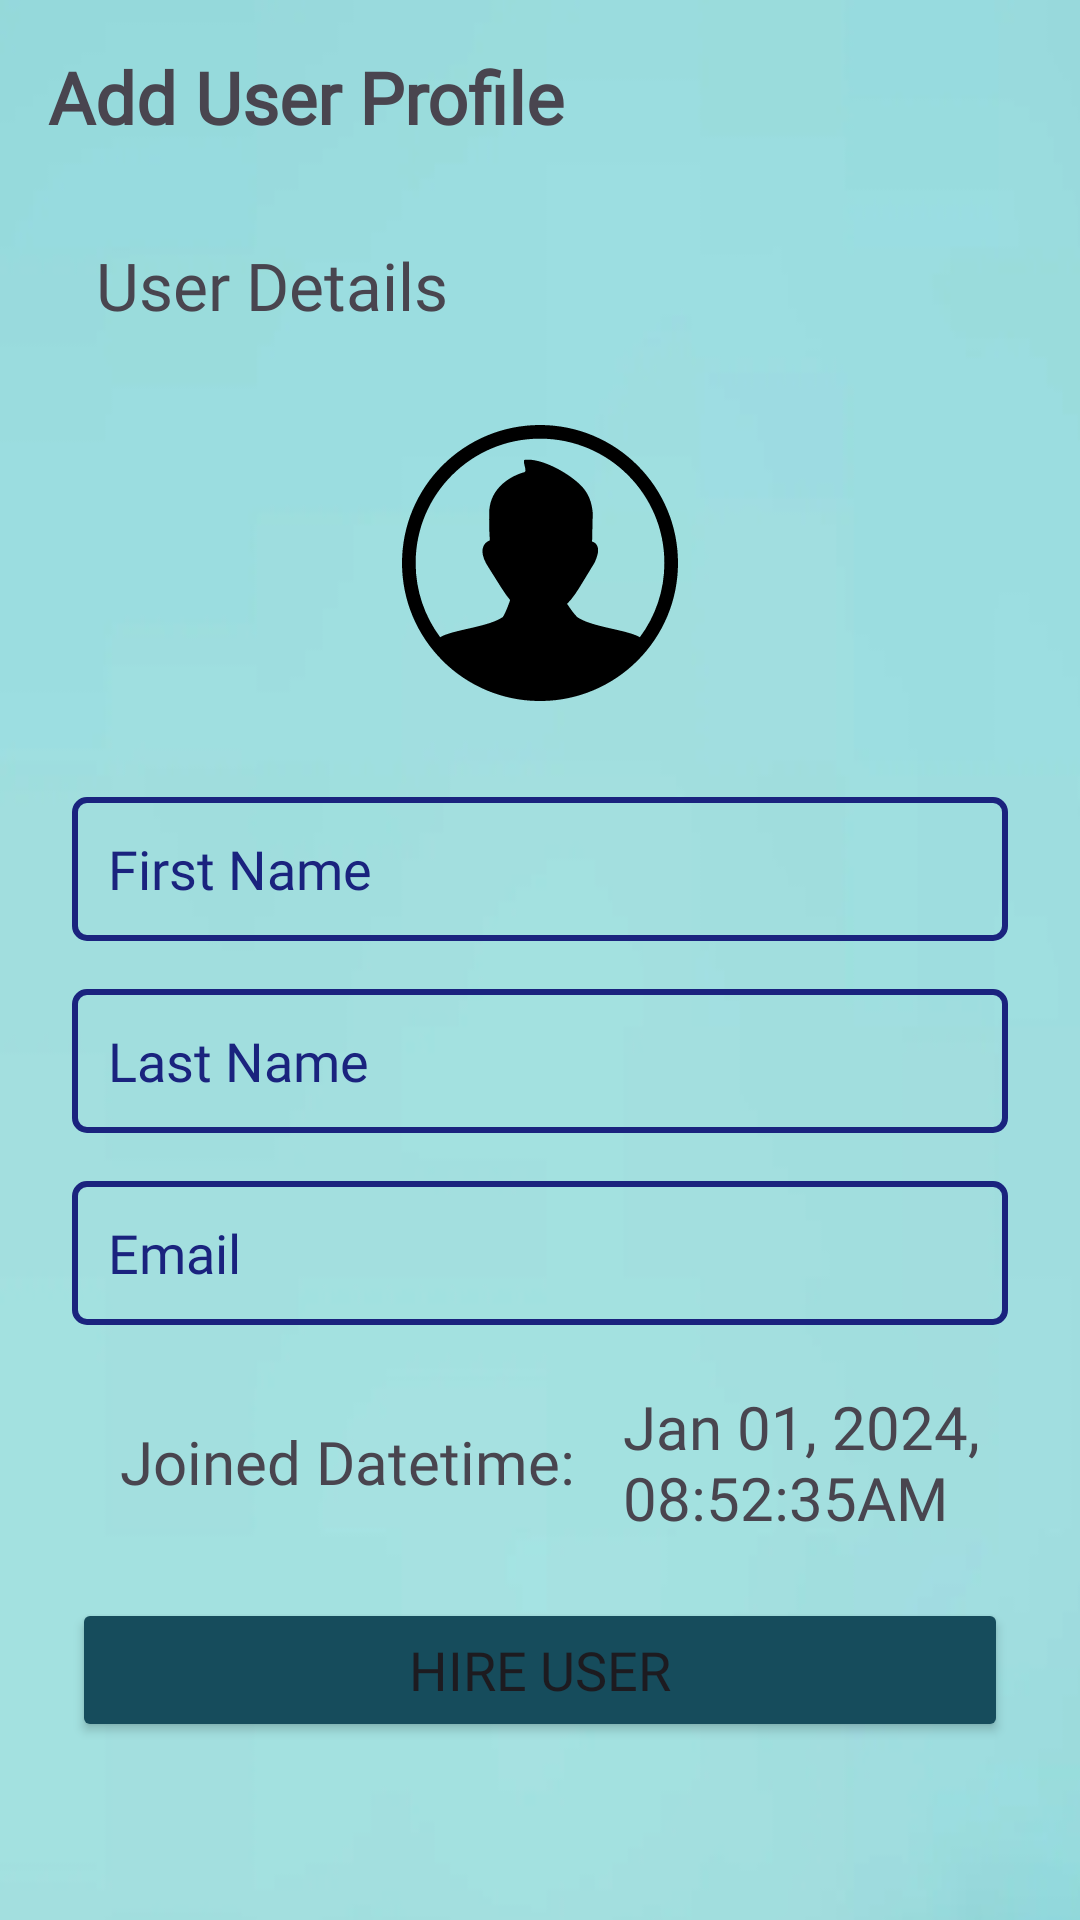

Locate icon controls on the screen. Image size 1080*1920, boxes as (x1, y1, x2, y2).
profile: (402, 425, 678, 701)
